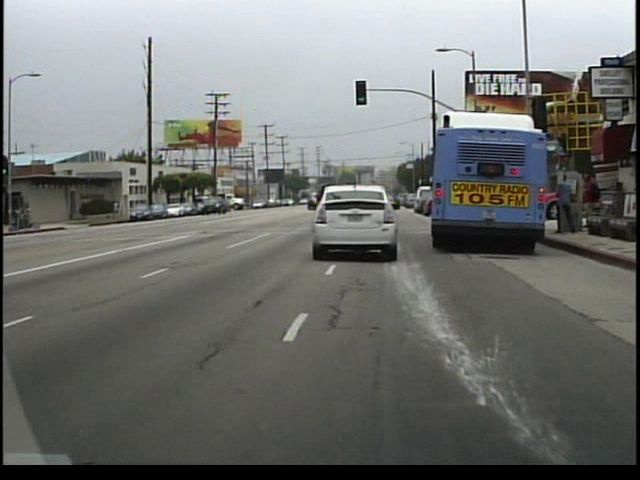person: (550, 171, 576, 238), (110, 195, 123, 219)
